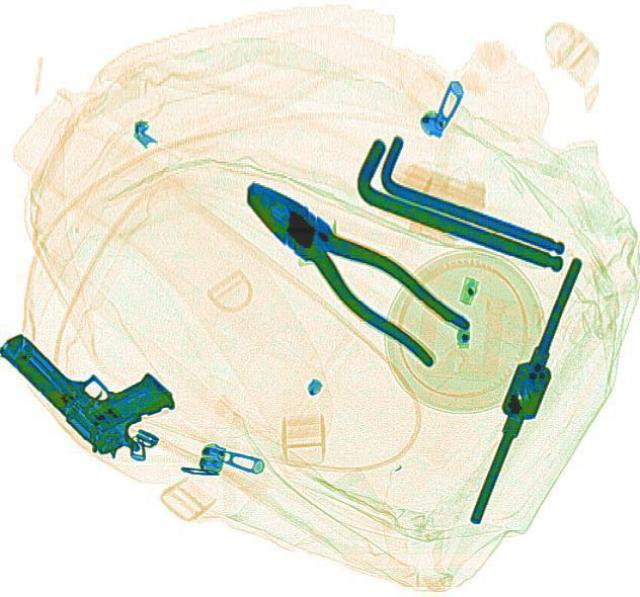Gun: (0, 300, 187, 466)
Pliers: (224, 161, 476, 370)
